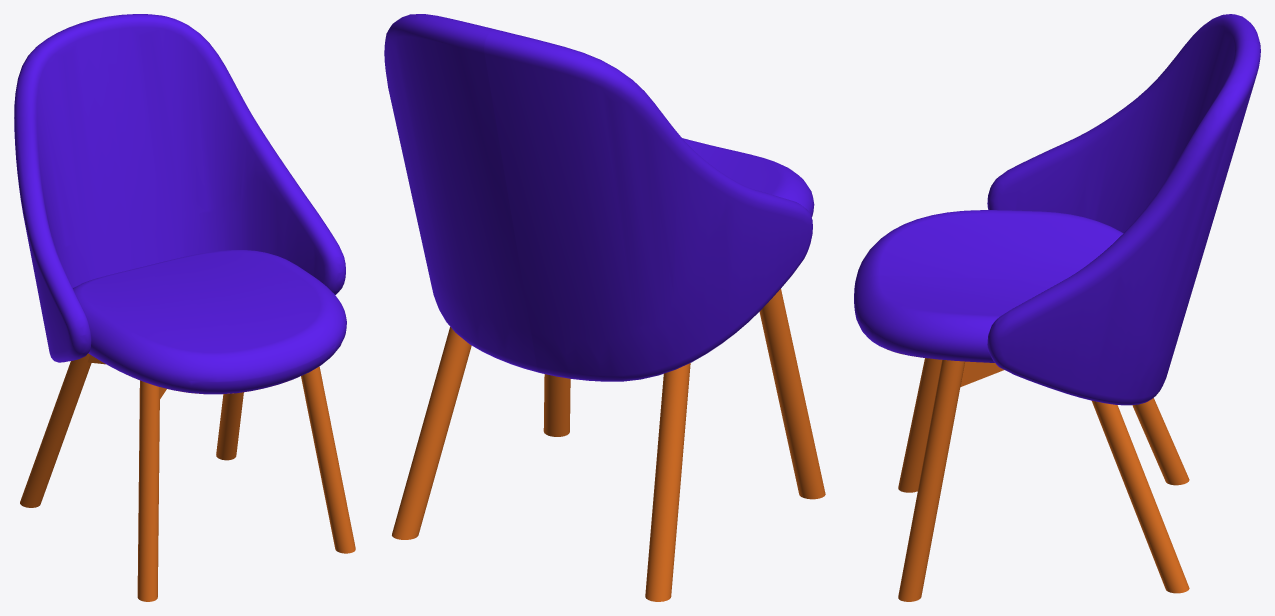
File: chair2.gltf
3 renders of one model, left to right at view 1: azimuth 30°, elevation 25°; view 2: azimuth 150°, elevation 25°; view 3: azimuth 270°, elevation 25°, orthographic. The views are drawn at different scales.
Parts seen in each view (by area): view 1: instance_5; view 2: instance_5; view 3: instance_5.
Part boxes in pixels (x1,y1,x2,y2): instance_5: [14, 14, 355, 601]; instance_5: [384, 14, 825, 601]; instance_5: [854, 14, 1260, 601].
Bounding box in the file's own units: 0.5516 × 0.8472 × 0.6222.
